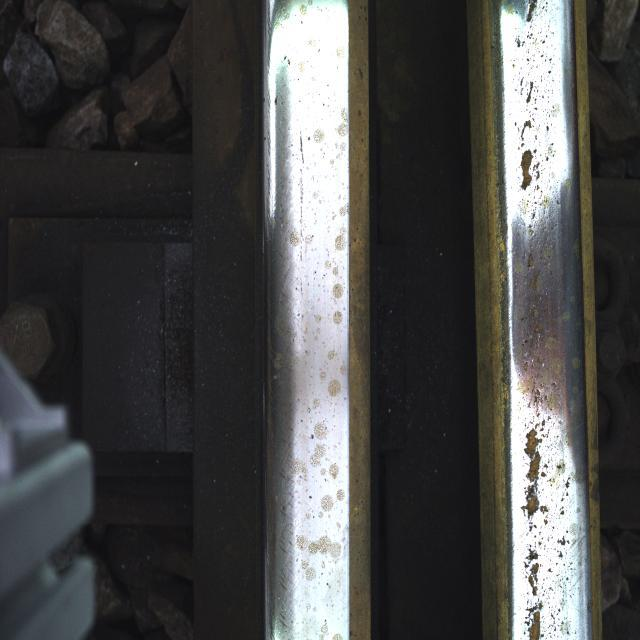scar: (516, 405, 575, 640), (509, 19, 555, 202)
